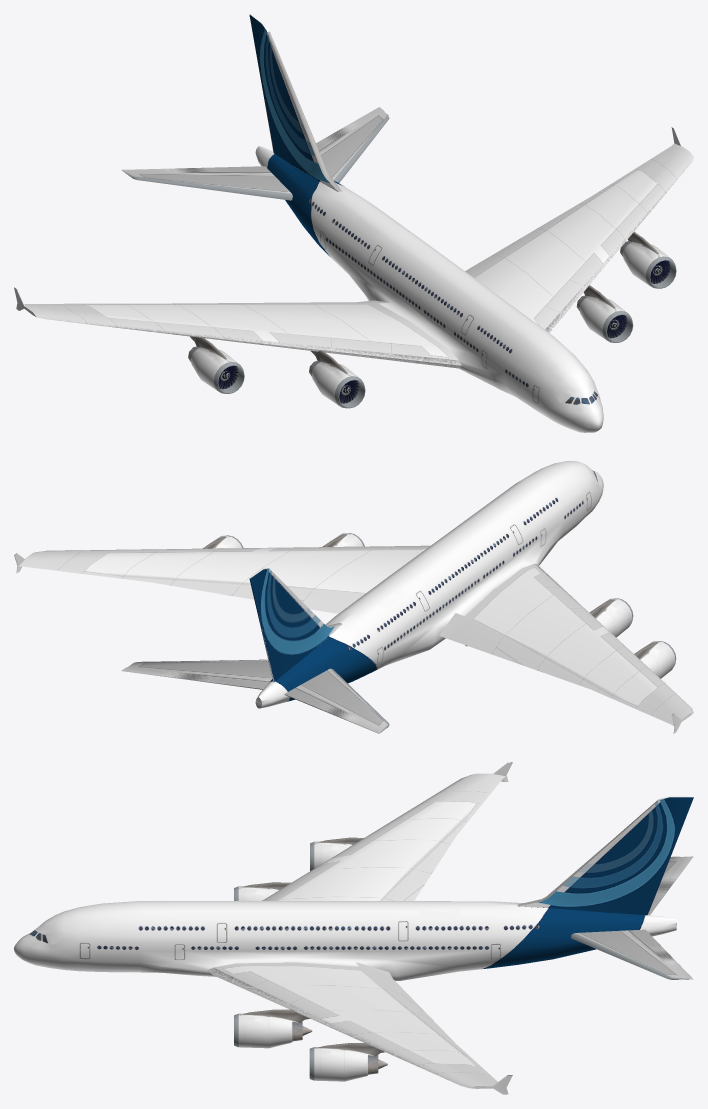
The picture shows the model from 3 angles, top to bottom: view 1: azimuth 30°, elevation 25°; view 2: azimuth 150°, elevation 25°; view 3: azimuth 270°, elevation 25°; orthographic projection. The views are drawn at different scales.
Parts seen in each view (by area): view 1: body; view 2: body; view 3: body.
Boxes of the visible parts, x1=… form: body: x1=14, y1=14, x2=693, y2=432; body: x1=14, y1=461, x2=693, y2=733; body: x1=14, y1=762, x2=693, y2=1094.
Bounding box in the file's own units: 79.75 × 22.09 × 73.28.
1 material, 1 textured.
